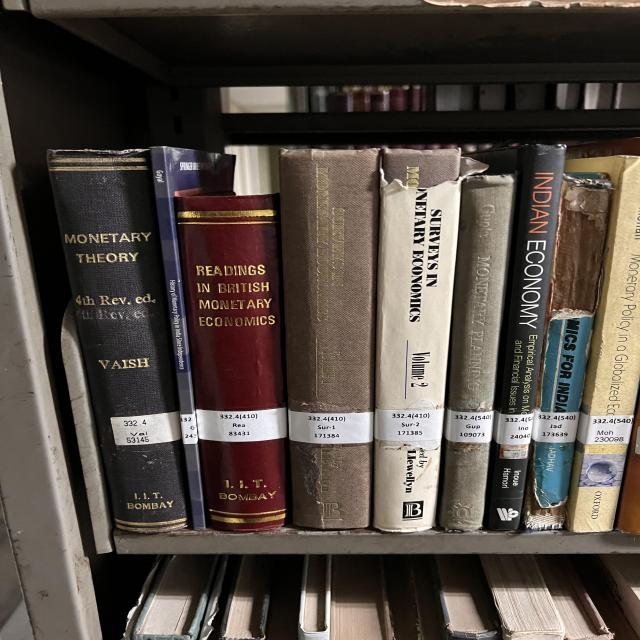Book: (47, 150, 188, 532), (280, 149, 380, 529), (175, 195, 287, 531), (373, 149, 462, 532), (150, 146, 235, 530), (523, 171, 612, 530), (485, 145, 565, 530), (565, 156, 640, 532), (438, 175, 517, 530)
Label: (195, 408, 287, 442), (288, 410, 373, 444), (110, 411, 182, 445), (375, 409, 443, 441), (577, 412, 633, 445), (445, 410, 493, 444), (532, 410, 580, 442), (493, 411, 535, 445), (180, 414, 198, 444)
